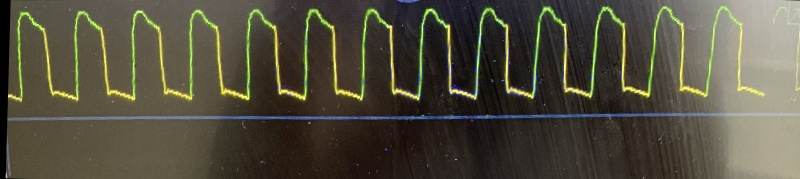normal_pressure: (7, 0, 763, 112)
